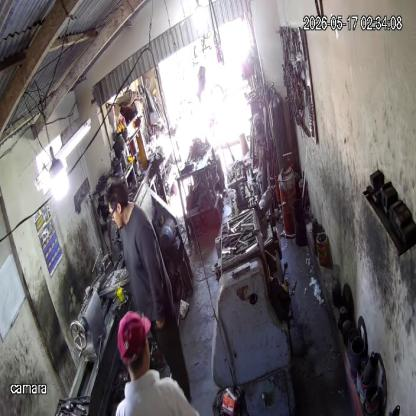lentes: (107, 202, 119, 219)
